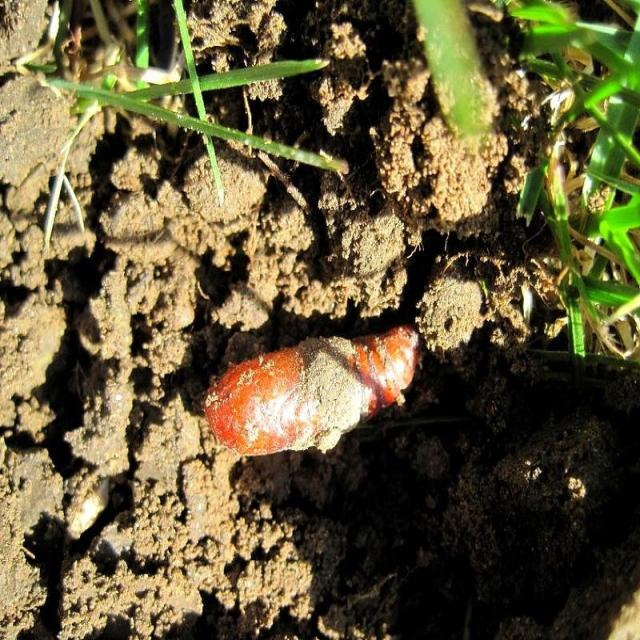black cutworm: (197, 342, 417, 462)
